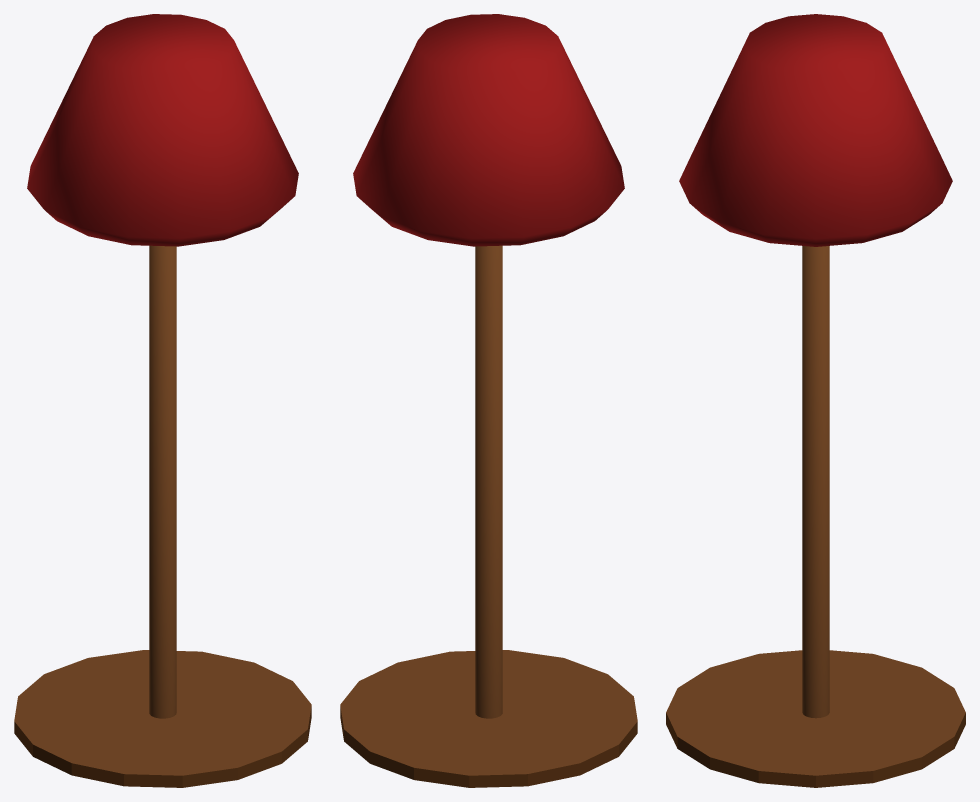
The model's file is Lamp1.fbx.
The picture shows the model from 3 angles, left to right: view 1: azimuth 30°, elevation 25°; view 2: azimuth 150°, elevation 25°; view 3: azimuth 270°, elevation 25°; orthographic projection.
Visible parts, largest first — view 1: Prop_HomeLamp_04; view 2: Prop_HomeLamp_04; view 3: Prop_HomeLamp_04.
Boxes of the visible parts, x1,y1,x2,y2 form: Prop_HomeLamp_04: (14, 14, 311, 787); Prop_HomeLamp_04: (340, 14, 637, 787); Prop_HomeLamp_04: (666, 14, 965, 787).
Size of the model in its own units: 59.37 by 149 by 59.37.
Materials: 1 (1 with a texture image).
